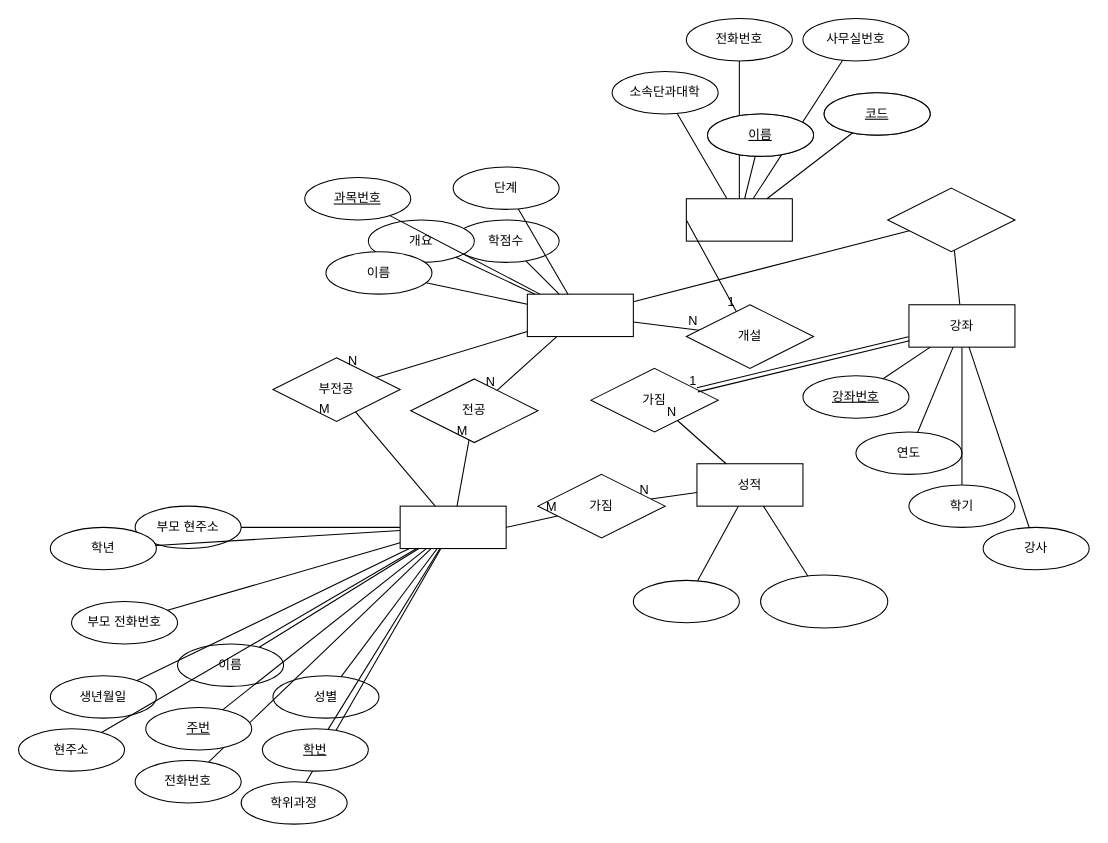
Some shapes in this 1108 by 843 pixel diagram are drawn without their labels. The shapes that lost their labels are listed below. From the top down, each one's centre as x and y in pixels, then its label:
At point 738,219: "학과".
At point 951,219: "식별".
At point 579,315: "과목".
At point 452,527: "학생".
At point 685,601: "학점".
At point 823,601: "정수로 표시한 학점".
